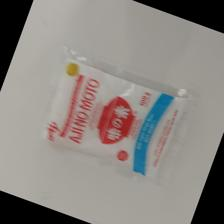Ajinomoto: (36, 55, 187, 182)
